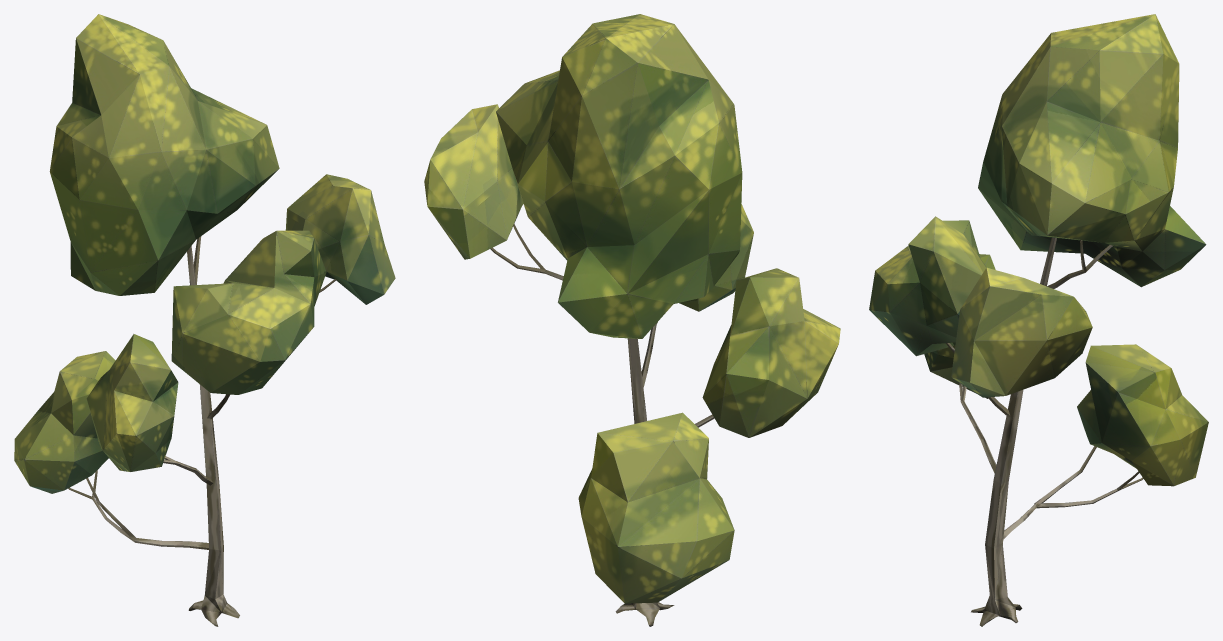
The model's file is tree-elm-low-poly.fbx.
3 views of the same model, side by side, from view 1: azimuth 30°, elevation 25°; view 2: azimuth 150°, elevation 25°; view 3: azimuth 270°, elevation 25° (orthographic). The views are drawn at different scales.
Parts seen in each view (by area): view 1: Icosphere.001; view 2: Icosphere.001; view 3: Icosphere.001.
Boxes of the visible parts, x1,y1,x2,y2 form: Icosphere.001: [14, 14, 395, 626]; Icosphere.001: [424, 14, 840, 626]; Icosphere.001: [869, 14, 1208, 626].
Size of the model in its own units: 1018 by 1803 by 952.
1 material, 1 textured.
